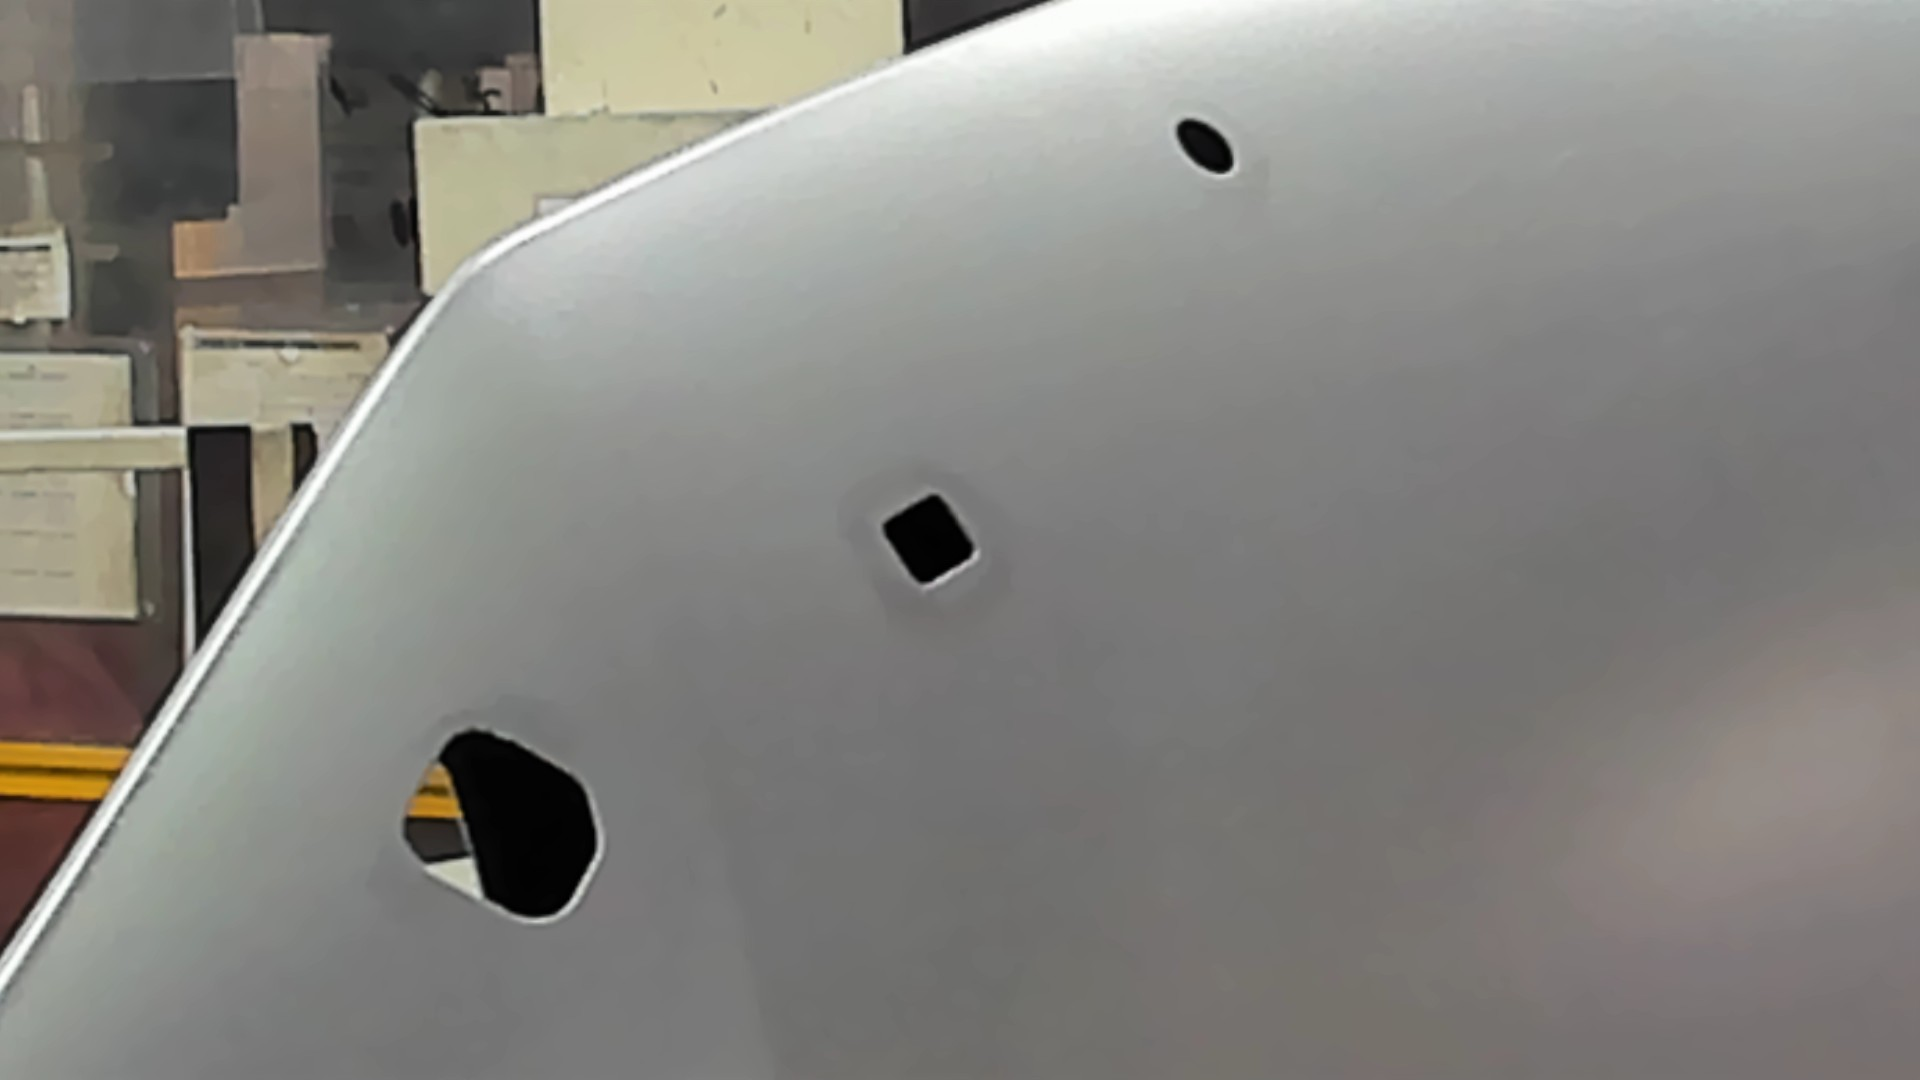capo: (986, 185, 1920, 1080)
chico: (1170, 113, 1240, 178)
grande: (396, 715, 607, 932)
mediano: (876, 483, 988, 599)
